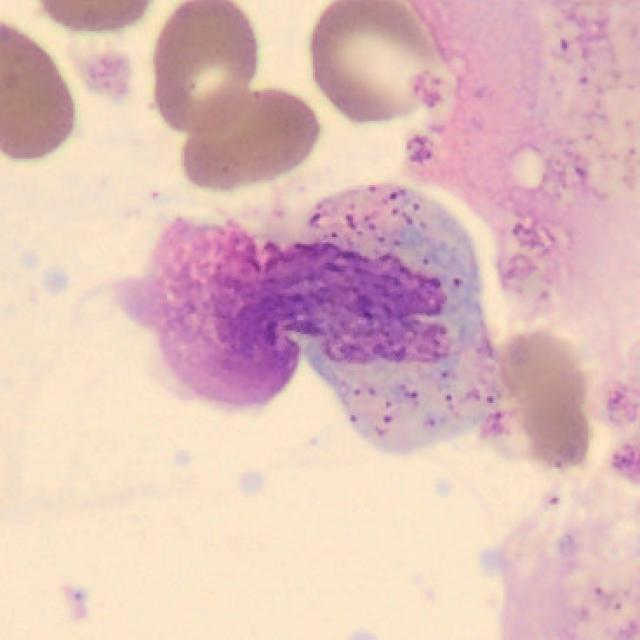Restos celulares: (118, 180, 513, 453)
